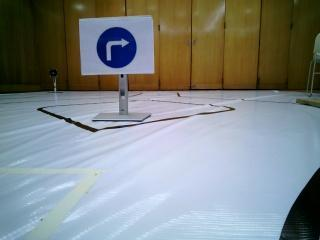right: (78, 19, 154, 72)
